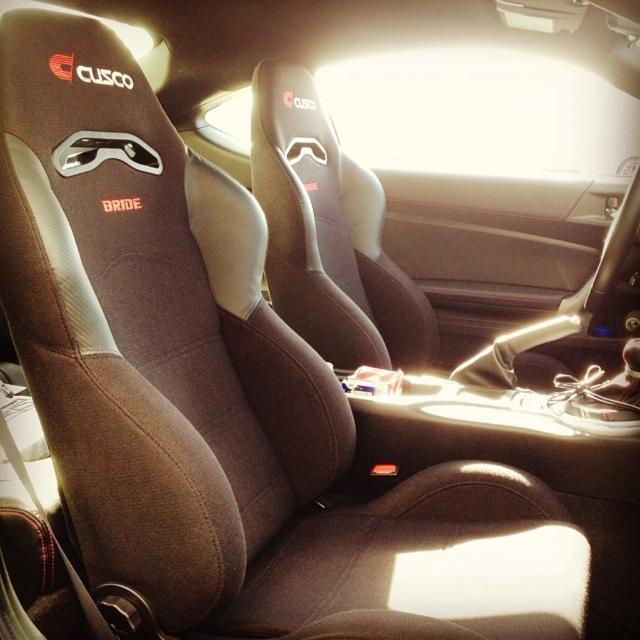Seatbelt: (0, 407, 116, 639)
